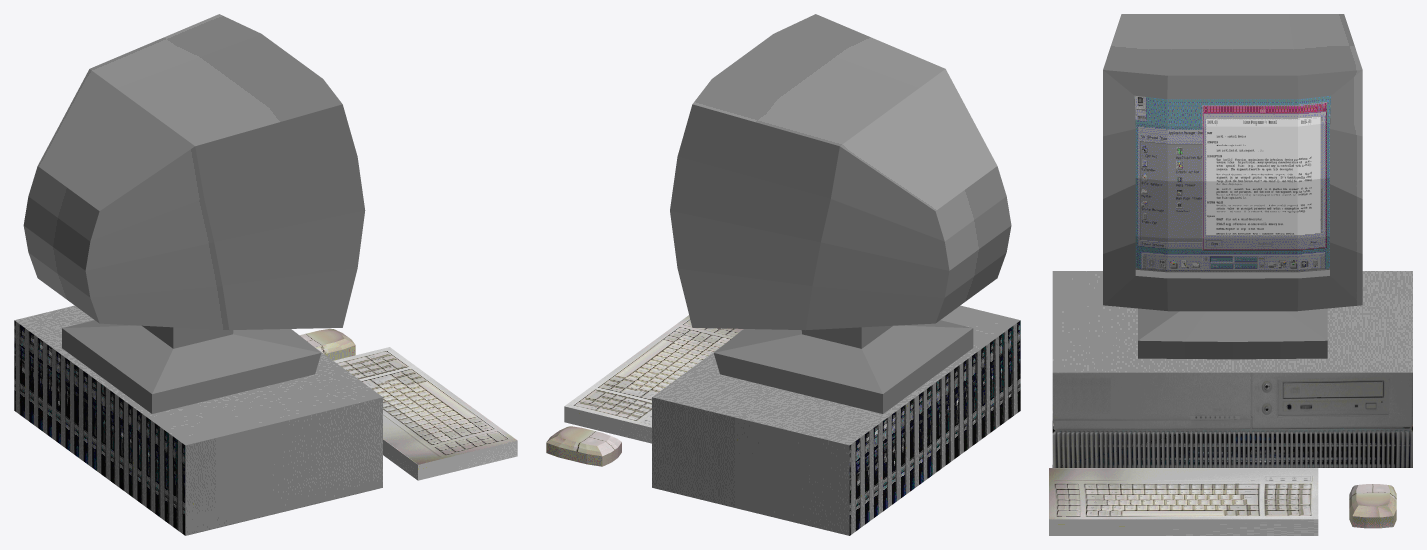
The picture shows the model from 3 angles, left to right: view 1: azimuth 30°, elevation 25°; view 2: azimuth 150°, elevation 25°; view 3: azimuth 270°, elevation 25°; orthographic projection. The views are drawn at different scales.
Parts seen in each view (by area): view 1: monitor, pc, keybord, mouse; view 2: monitor, pc, keybord, mouse; view 3: monitor, pc, keybord, mouse.
Boxes of the visible parts, <box> form: monitor: <box>23,14,365,413</box>; pc: <box>14,305,382,535</box>; keybord: <box>333,347,517,480</box>; mouse: <box>300,328,355,360</box>; monitor: <box>670,14,1011,413</box>; pc: <box>652,305,1020,535</box>; keybord: <box>564,315,743,443</box>; mouse: <box>546,426,621,466</box>; monitor: <box>1103,14,1362,359</box>; pc: <box>1052,271,1412,467</box>; keybord: <box>1049,468,1318,535</box>; mouse: <box>1349,484,1396,528</box>.
Bounding box in the file's own units: 3.52 × 3.31 × 2.8.
4 materials, 4 textured.
